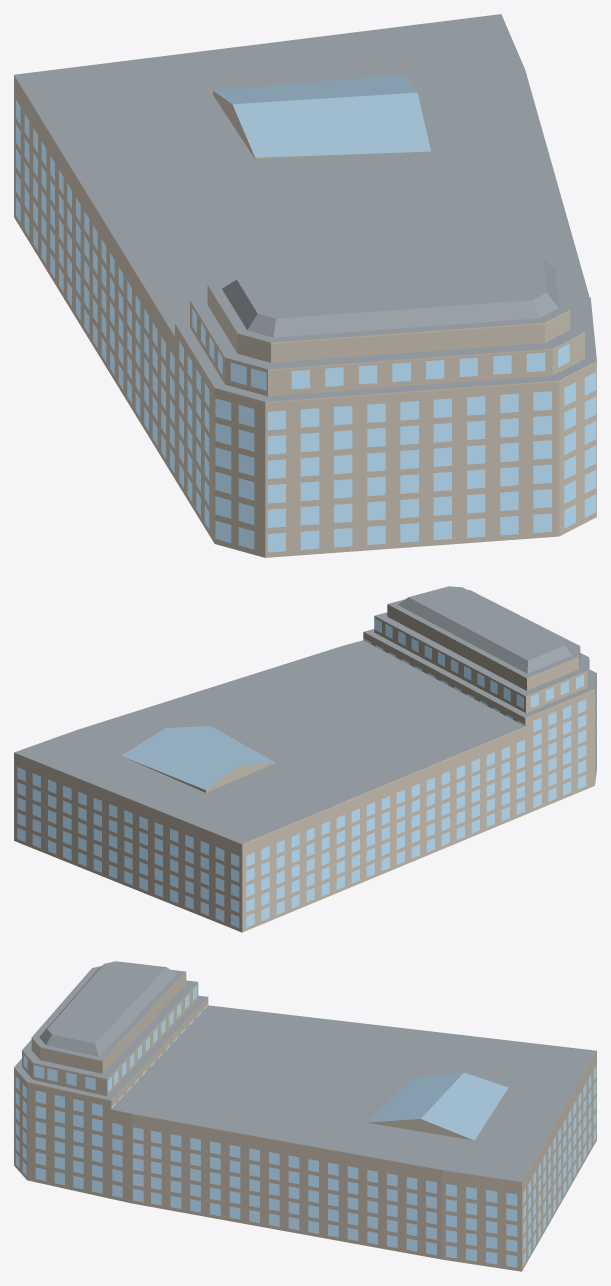
The picture shows the model from 3 angles, top to bottom: view 1: azimuth 30°, elevation 25°; view 2: azimuth 150°, elevation 25°; view 3: azimuth 270°, elevation 25°; orthographic projection. The views are drawn at different scales.
Parts seen in each view (by area): view 1: roof, stone, window, glass, trim; view 2: roof, stone, window, glass, trim; view 3: roof, stone, window, glass, trim.
Part boxes in pixels (x1,y1,x2,y2): roof: [14, 14, 596, 401]; stone: [14, 75, 596, 557]; window: [16, 100, 596, 552]; glass: [213, 74, 430, 157]; trim: [14, 75, 596, 402]; roof: [14, 586, 596, 843]; stone: [14, 604, 596, 932]; window: [17, 618, 596, 927]; glass: [121, 726, 274, 789]; trim: [14, 605, 595, 844]; roof: [14, 961, 596, 1181]; stone: [14, 973, 596, 1271]; window: [15, 985, 596, 1267]; glass: [367, 1072, 508, 1140]; trim: [14, 972, 596, 1182].
Size of the model in its own units: 94.32 by 32 by 124.
